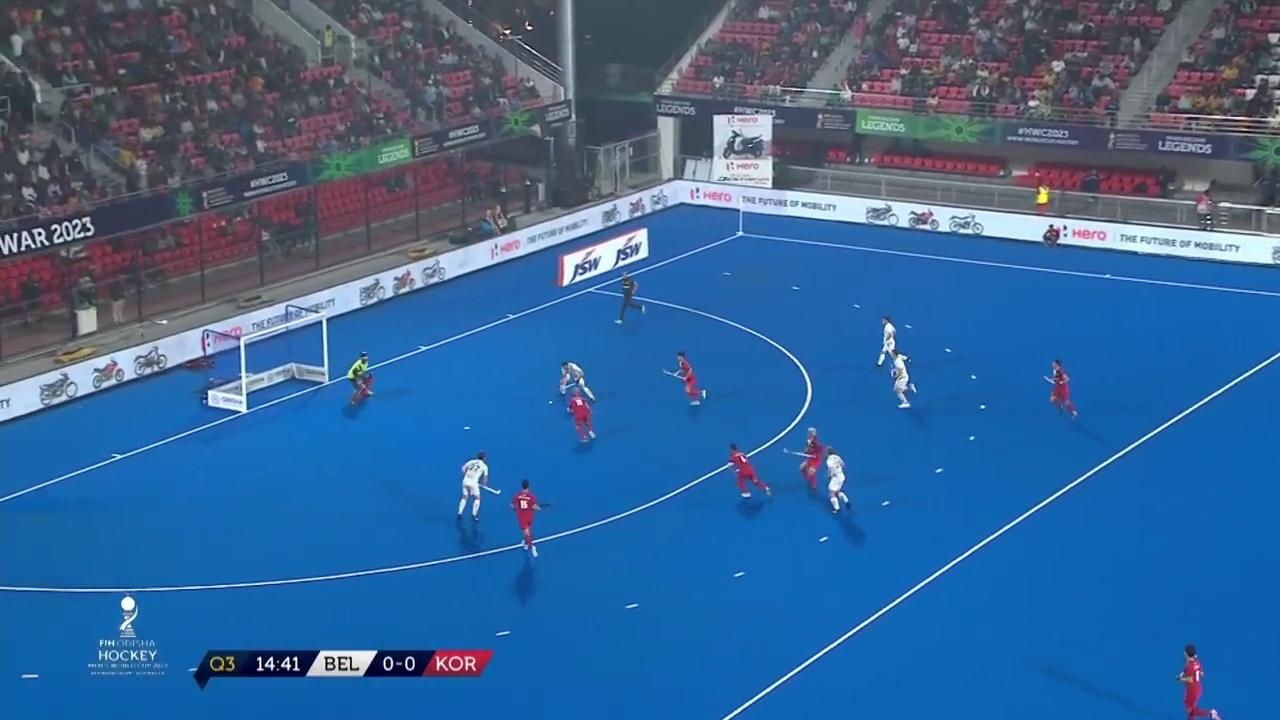ball: (542, 396, 557, 410)
